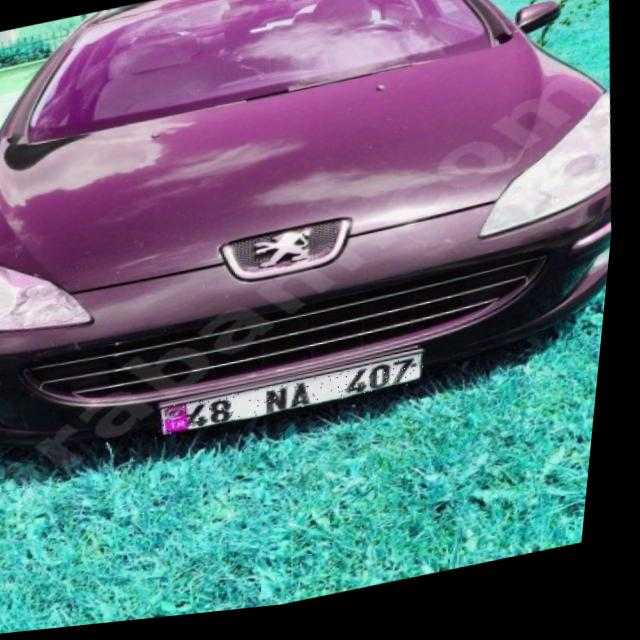license_plate: (168, 363, 434, 440)
